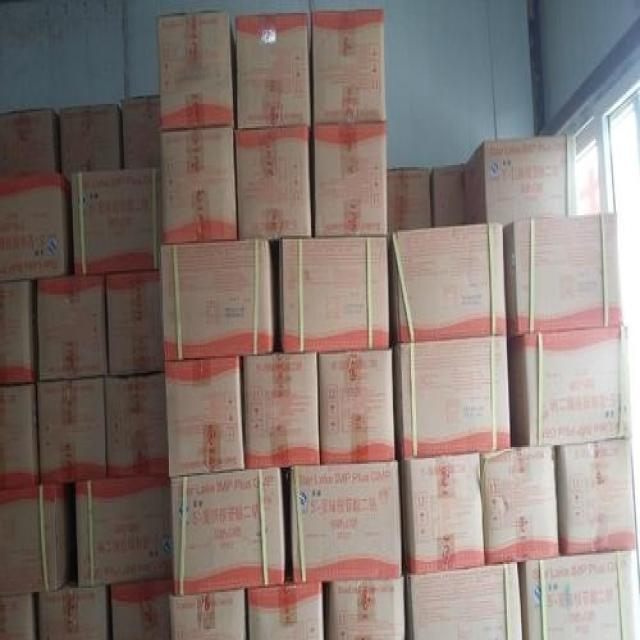box: (508, 326, 632, 447), (503, 213, 623, 338), (393, 336, 511, 460), (170, 467, 285, 594), (389, 223, 507, 345), (289, 462, 403, 584), (161, 239, 276, 358), (279, 237, 389, 352), (520, 551, 640, 640), (74, 477, 173, 584), (463, 134, 579, 224), (399, 454, 485, 573), (554, 438, 637, 555), (165, 356, 244, 477), (156, 11, 236, 130), (480, 447, 558, 566), (72, 169, 156, 276), (159, 126, 237, 241), (242, 352, 320, 467), (310, 9, 387, 124), (406, 564, 522, 640), (234, 126, 312, 239), (236, 11, 311, 128), (314, 121, 388, 237), (319, 349, 394, 462), (37, 375, 108, 486), (0, 484, 67, 597), (0, 173, 69, 282), (37, 275, 106, 380), (105, 373, 168, 479), (106, 271, 164, 375), (325, 579, 406, 640), (59, 104, 123, 180), (247, 584, 323, 640), (37, 581, 108, 640), (0, 108, 60, 176), (0, 384, 37, 490), (0, 280, 37, 386), (111, 579, 174, 640), (169, 590, 244, 640), (387, 167, 433, 232), (122, 95, 160, 169), (431, 165, 467, 226), (0, 594, 35, 640)
